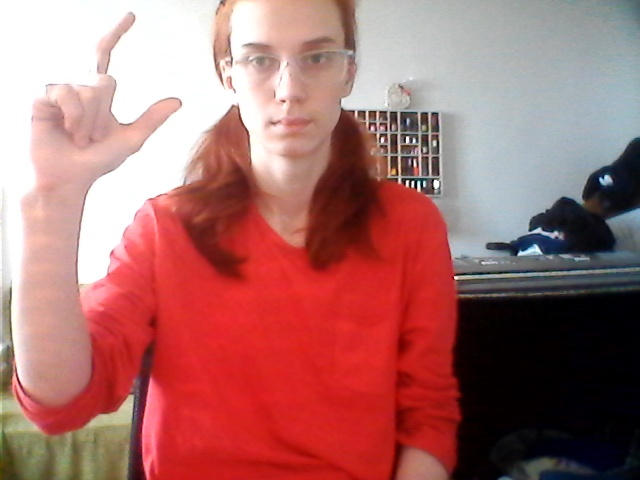c: (11, 8, 185, 186)
